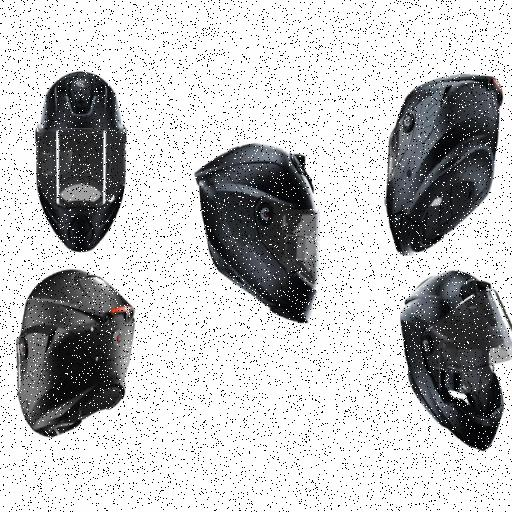Helmet: (184, 125, 327, 333), (366, 52, 502, 255), (389, 257, 512, 451), (5, 261, 139, 439), (38, 70, 124, 248)
